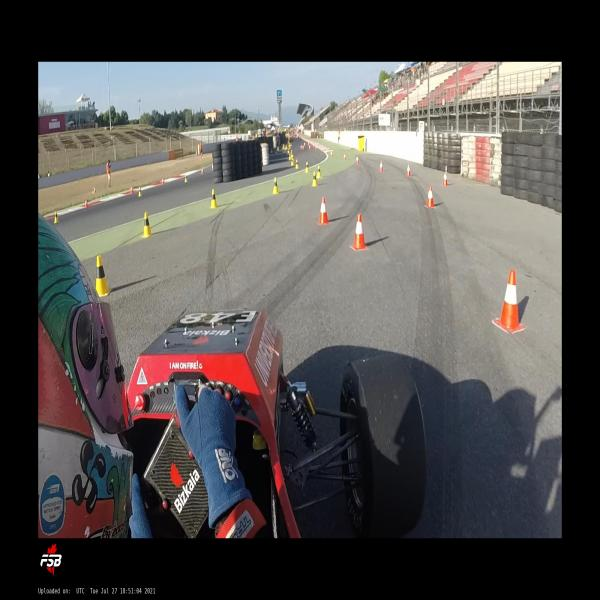orange_cone: (494, 269, 526, 334), (350, 213, 369, 251), (317, 196, 331, 225), (424, 186, 436, 208), (404, 164, 412, 177), (441, 172, 448, 186), (378, 161, 384, 172), (443, 165, 448, 176), (84, 198, 88, 208), (343, 153, 347, 161), (356, 157, 360, 164), (131, 185, 134, 194), (162, 177, 165, 185), (201, 167, 204, 174), (330, 151, 333, 157), (94, 186, 96, 194), (212, 163, 214, 171)
yellow_cone: (96, 255, 110, 296), (141, 211, 154, 238), (210, 188, 219, 208), (272, 177, 280, 194), (312, 171, 318, 187), (316, 165, 322, 178), (54, 210, 59, 224), (305, 161, 310, 173), (295, 159, 300, 168), (184, 174, 189, 183), (138, 186, 142, 197), (291, 157, 295, 165)
